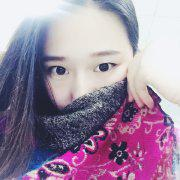WRONG: (40, 42, 130, 132)
